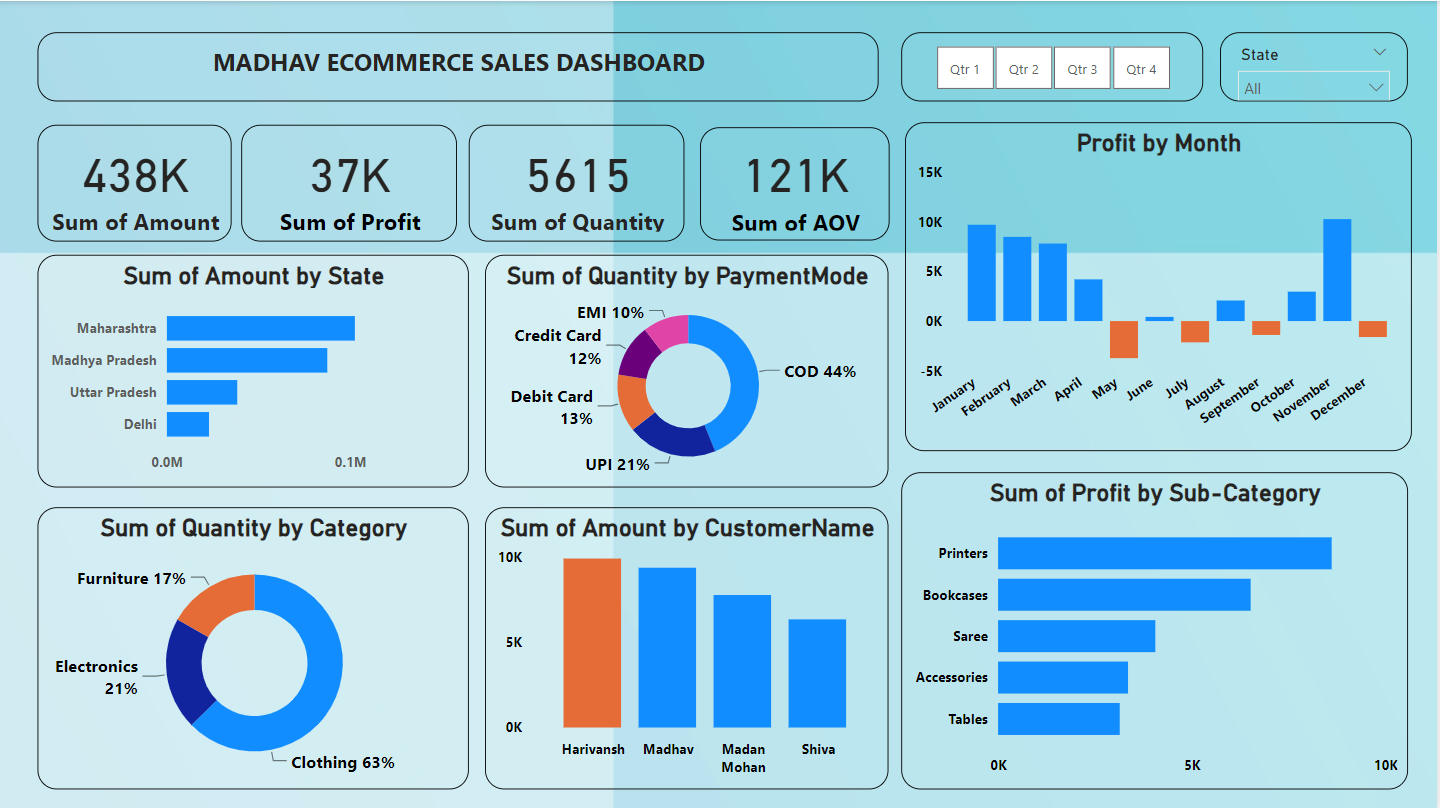

This screenshot's page, from the dashboard's own definition file:
{"tool":"powerbi","page":{"name":"Page 1","canvas":[1280,720],"ordinal":0},"visuals":[{"type":"textbox","box":[32.9,27.4,748.6,61.7],"z":0},{"type":"columnChart","title":"Profit by Month","fields":{"Category":["Orders.Order Date.Variation.Date Hierarchy.Month"],"Y":["Sum(Details.Profit)"]},"box":[805.6,108,450.9,293.1],"z":1000},{"type":"barChart","fields":{"Category":["Details.Sub-Category"],"Y":["Sum(Details.Profit)"]},"box":[802.1,419.5,451.1,282.4],"z":2000},{"type":"donutChart","fields":{"Category":["Details.Category"],"Y":["Sum(Details.Quantity)"]},"box":[32.9,451.1,383.9,250.9],"z":3000},{"type":"donutChart","fields":{"Category":["Details.PaymentMode"],"Y":["Sum(Details.Quantity)"]},"box":[431.8,225.9,359.4,207],"z":4000},{"type":"card","fields":{"Values":["Sum(Details.Amount)"]},"box":[32.9,109.7,172.8,104.2],"z":5000},{"type":"card","fields":{"Values":["Sum(Details.Quantity)"]},"box":[416.8,109.7,191.9,104.2],"z":6000},{"type":"card","fields":{"Values":["Sum(Details.Profit)"]},"box":[215.3,109.7,191.9,104.2],"z":7000},{"type":"card","fields":{"Values":["Sum(Details.AOV)"]},"box":[622.9,112.7,168.5,100.9],"z":8000},{"type":"barChart","fields":{"Category":["Orders.State"],"Y":["Sum(Details.Amount)"]},"box":[32.9,226.2,383.9,207],"z":9000},{"type":"columnChart","fields":{"Category":["Orders.CustomerName"],"Y":["Sum(Details.Amount)"]},"box":[431.9,451.1,359.2,250.9],"z":10000},{"type":"slicer","fields":{"Values":["Orders.Order Date.Variation.Date Hierarchy.Quarter"]},"box":[802.1,27.4,268.7,61.7],"z":11000},{"type":"slicer","fields":{"Values":["Orders.State"]},"box":[1085.9,27.4,167.3,61.7],"z":12000}]}

Visuals, with their boxes in screenshot pixels (x1, y1, x2, y2), scaled from the page's 1280x720 canvas onto the 1440x808 screenshot:
textbox: [left=37, top=31, right=879, bottom=100]
"Profit by Month" columnChart: [left=906, top=121, right=1414, bottom=450]
barChart - Details.Sub-Category x Sum(Details.Profit): [left=902, top=471, right=1410, bottom=788]
donutChart - Details.Category x Sum(Details.Quantity): [left=37, top=506, right=469, bottom=788]
donutChart - Details.PaymentMode x Sum(Details.Quantity): [left=486, top=254, right=890, bottom=486]
card - Sum(Details.Amount): [left=37, top=123, right=231, bottom=240]
card - Sum(Details.Quantity): [left=469, top=123, right=685, bottom=240]
card - Sum(Details.Profit): [left=242, top=123, right=458, bottom=240]
card - Sum(Details.AOV): [left=701, top=126, right=890, bottom=240]
barChart - Orders.State x Sum(Details.Amount): [left=37, top=254, right=469, bottom=486]
columnChart - Orders.CustomerName x Sum(Details.Amount): [left=486, top=506, right=890, bottom=788]
slicer - Orders.Order Date.Variation.Date Hierarchy.Quarter: [left=902, top=31, right=1205, bottom=100]
slicer - Orders.State: [left=1222, top=31, right=1410, bottom=100]
